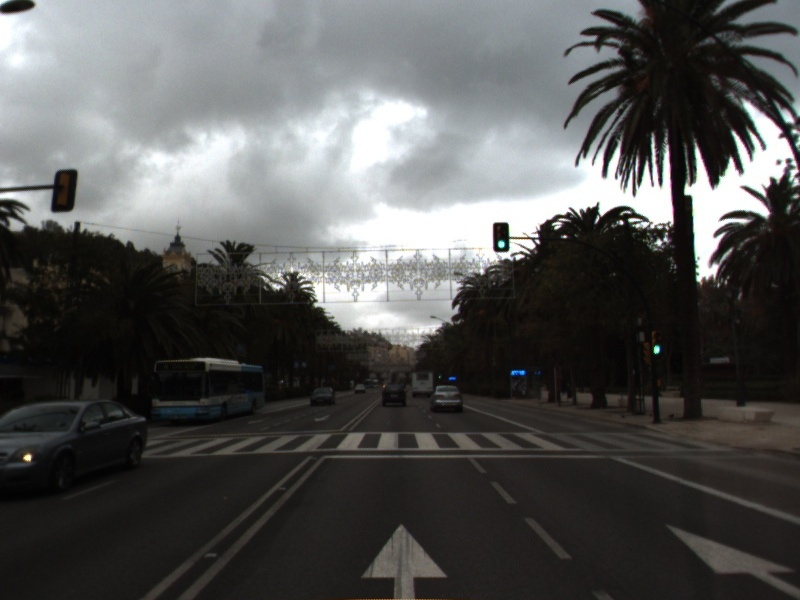STRAIGHT: (661, 520, 800, 600), (356, 520, 452, 600)
